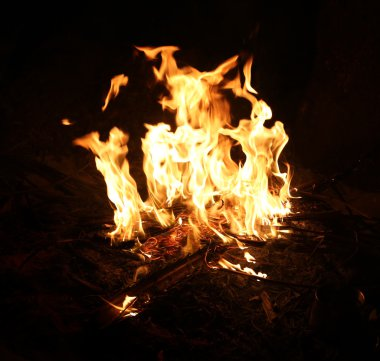fire: (66, 42, 304, 246)
